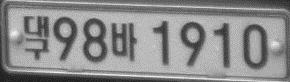0: (241, 23, 268, 70)
1: (149, 20, 175, 65), (211, 22, 236, 67)
8: (82, 17, 107, 63)
9: (179, 21, 207, 66), (52, 15, 77, 61)
대구_V: (23, 15, 49, 60)
바: (111, 22, 137, 61)
